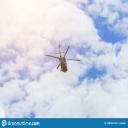helicopter: (46, 43, 82, 75)
